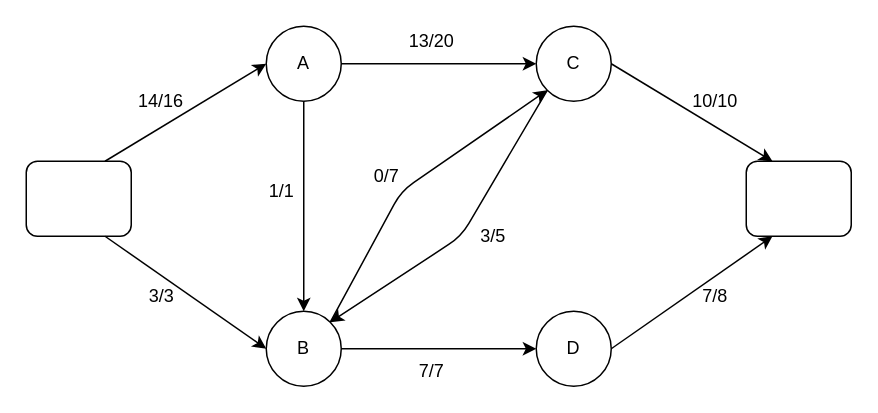
Some shapes in this 878 by 413 pixel diagram are drawn without their labels. Here are the shapes that lost their labels. From the top down, the centre of each, then its label:
point (78, 198): Server
point (798, 198): Client
